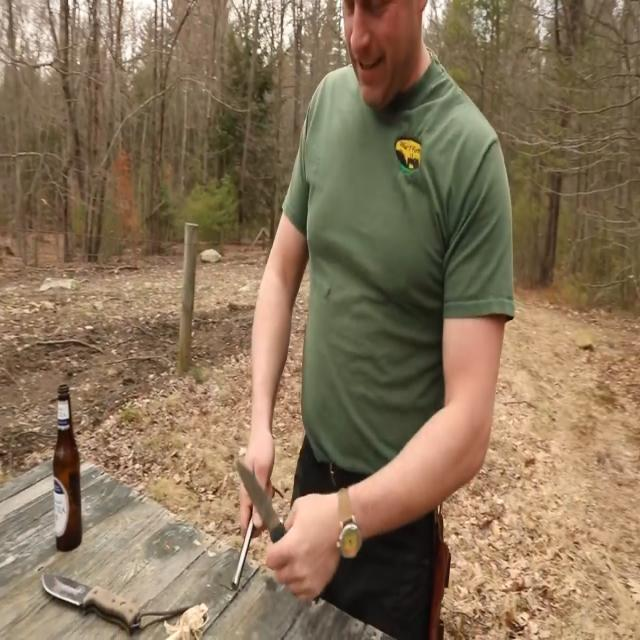knife: (41, 565, 145, 634), (233, 445, 289, 544)
